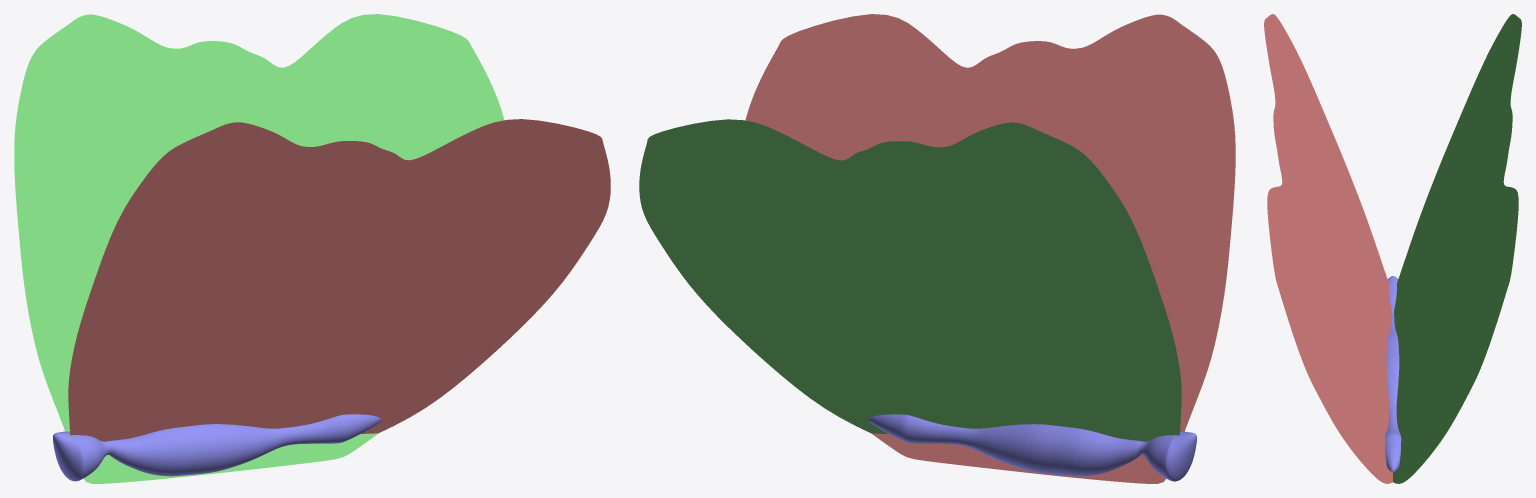
File: butterfly_r.glb
3 renders of one model, left to right at view 1: azimuth 30°, elevation 25°; view 2: azimuth 150°, elevation 25°; view 3: azimuth 270°, elevation 25°, orthographic. The views are drawn at different scales.
Visible parts, largest first — view 1: Part_0, Part_1, Part_2; view 2: Part_1, Part_0, Part_2; view 3: Part_1, Part_0, Part_2.
Part boxes in pixels (<box>): Part_0: <box>68,119,610,441</box>; Part_1: <box>14,14,504,483</box>; Part_2: <box>53,414,381,481</box>; Part_1: <box>639,119,1181,441</box>; Part_0: <box>745,14,1235,483</box>; Part_2: <box>868,414,1196,481</box>; Part_1: <box>1393,14,1521,483</box>; Part_0: <box>1264,14,1392,483</box>; Part_2: <box>1385,276,1401,472</box>.
Size of the model in its own units: 1.89 by 1.53 by 0.9522.
